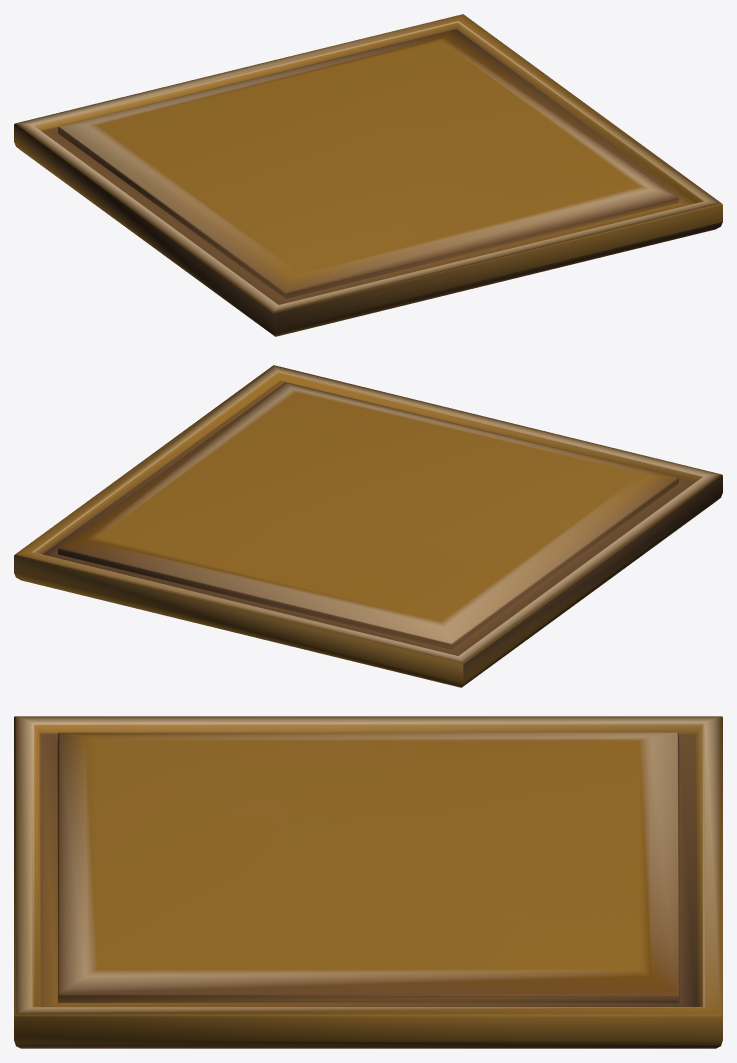
The model's file is Floor_01.fbx.
The picture shows the model from 3 angles, top to bottom: view 1: azimuth 30°, elevation 25°; view 2: azimuth 150°, elevation 25°; view 3: azimuth 270°, elevation 25°; orthographic projection. The views are drawn at different scales.
Visible parts, largest first — view 1: Cube; view 2: Cube; view 3: Cube.
Boxes of the visible parts, bbox=[...] form: Cube: bbox=[14, 14, 722, 336]; Cube: bbox=[14, 365, 722, 687]; Cube: bbox=[14, 716, 722, 1048].
Bounding box in the file's own units: 99.82 × 7.57 × 99.82.
